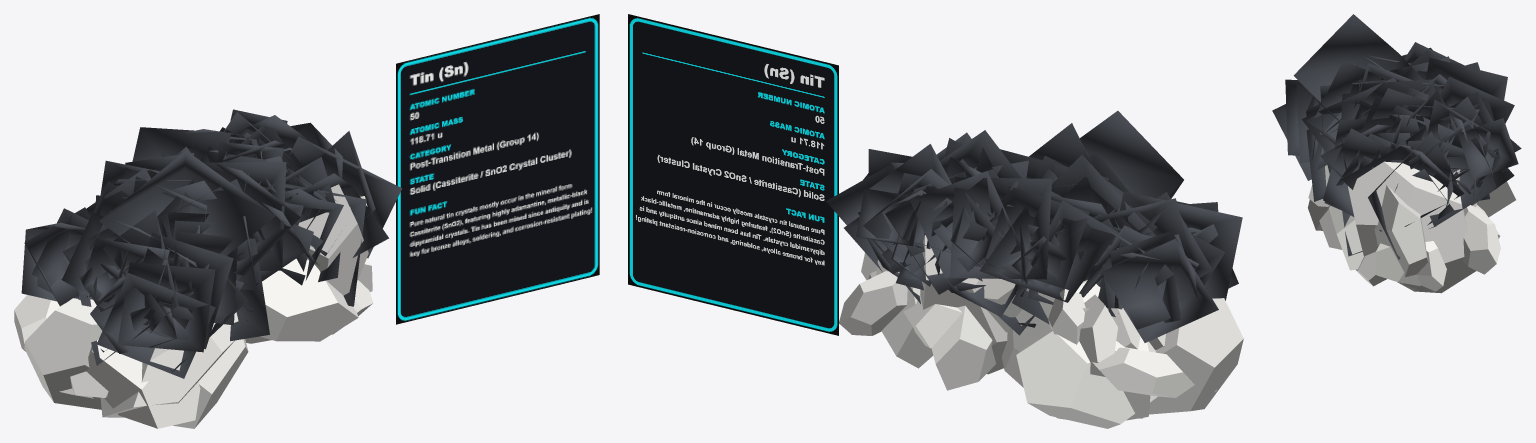
File: tin.glb
3 views of the same model, side by side, from view 1: azimuth 30°, elevation 25°; view 2: azimuth 150°, elevation 25°; view 3: azimuth 270°, elevation 25° (orthographic). The views are drawn at different scales.
Visible parts, largest first — view 1: Mesh_141, Mesh_25, Mesh_20, Mesh_0, Mesh_70, Mesh_21, Mesh_22, Mesh_3, Mesh_54, Mesh_26, Mesh_73, Mesh_65 (+32 smaller); view 2: Mesh_141, Mesh_9, Mesh_0, Mesh_25, Mesh_95, Mesh_65, Mesh_2, Mesh_8, Mesh_42, Mesh_24, Mesh_132, Mesh_113 (+30 smaller); view 3: Mesh_3, Mesh_25, Mesh_16, Mesh_116, Mesh_96, Mesh_24, Mesh_67, Mesh_65, Mesh_26, Mesh_60, Mesh_118, Mesh_110 (+33 smaller).
Boxes of the visible parts, left/top/right/bottom form: Mesh_141: left=396, top=14, right=599, bottom=324; Mesh_25: left=99, top=150, right=275, bottom=255; Mesh_20: left=260, top=258, right=358, bottom=341; Mesh_0: left=24, top=298, right=102, bottom=409; Mesh_70: left=117, top=262, right=215, bottom=352; Mesh_21: left=86, top=299, right=200, bottom=428; Mesh_22: left=100, top=323, right=234, bottom=417; Mesh_3: left=298, top=184, right=368, bottom=295; Mesh_54: left=97, top=273, right=215, bottom=378; Mesh_26: left=157, top=162, right=300, bottom=275; Mesh_73: left=141, top=232, right=233, bottom=349; Mesh_65: left=132, top=127, right=230, bottom=162; Mesh_141: left=628, top=14, right=838, bottom=335; Mesh_9: left=1016, top=327, right=1157, bottom=428; Mesh_0: left=1149, top=298, right=1243, bottom=414; Mesh_25: left=1042, top=111, right=1183, bottom=233; Mesh_95: left=1101, top=238, right=1218, bottom=342; Mesh_65: left=950, top=177, right=1051, bottom=279; Mesh_2: left=931, top=305, right=995, bottom=390; Mesh_8: left=1092, top=347, right=1194, bottom=397; Mesh_42: left=979, top=205, right=1115, bottom=302; Mesh_24: left=839, top=271, right=907, bottom=335; Mesh_132: left=1116, top=191, right=1242, bottom=300; Mesh_113: left=984, top=186, right=1089, bottom=288; Mesh_3: left=1348, top=161, right=1475, bottom=293; Mesh_25: left=1293, top=14, right=1429, bottom=120; Mesh_16: left=1374, top=185, right=1427, bottom=288; Mesh_116: left=1458, top=118, right=1518, bottom=179; Mesh_96: left=1323, top=128, right=1398, bottom=216; Mesh_24: left=1462, top=205, right=1500, bottom=274; Mesh_67: left=1408, top=122, right=1496, bottom=226; Mesh_65: left=1424, top=57, right=1507, bottom=100; Mesh_26: left=1308, top=60, right=1429, bottom=139; Mesh_60: left=1368, top=131, right=1459, bottom=259; Mesh_118: left=1340, top=79, right=1434, bottom=144; Mesh_110: left=1429, top=76, right=1514, bottom=123.
Bounding box in the file's own units: 3.1 × 1.39 × 1.3.
3 materials, 1 textured.
